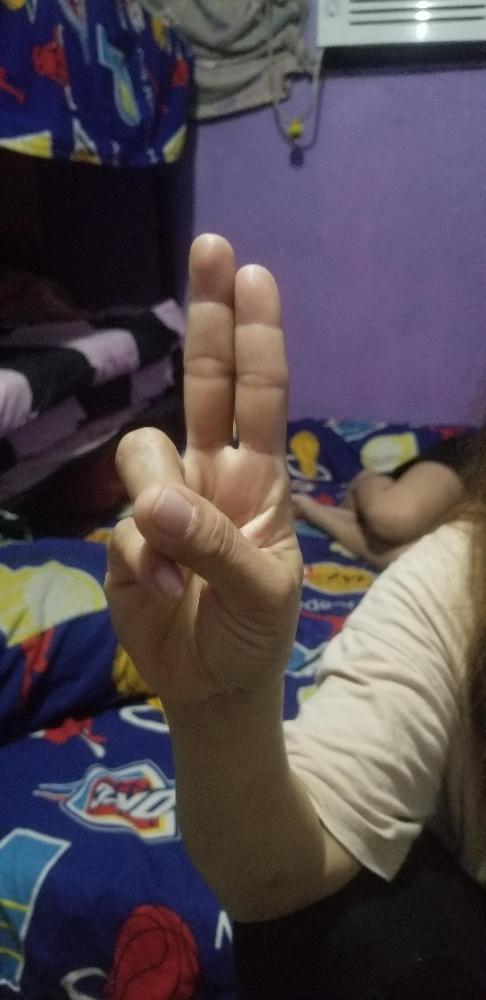u: (101, 231, 304, 701)
